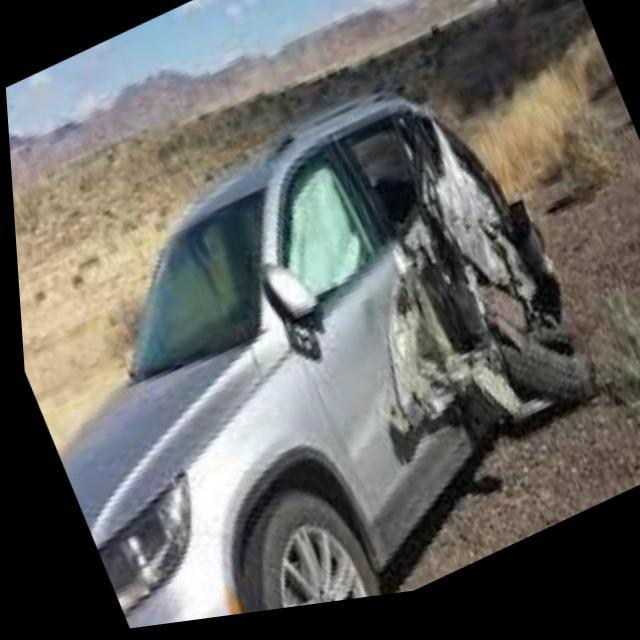crash: (337, 114, 593, 509)
